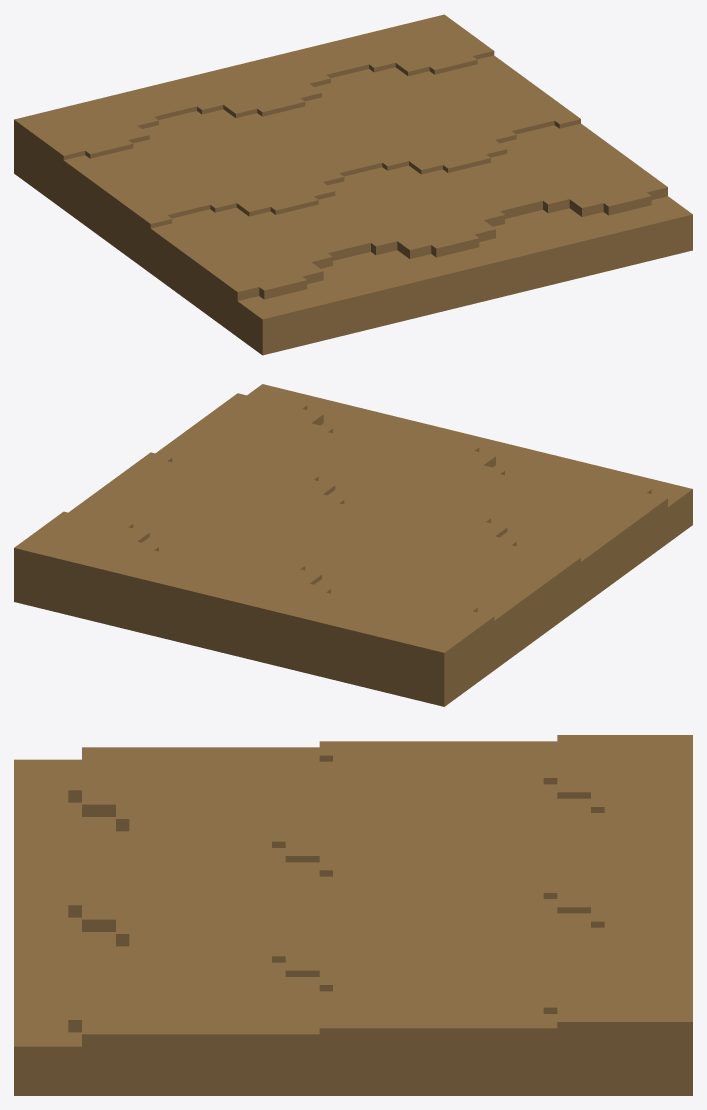
The model's file is Background_B_floor_02.FBX.
The picture shows the model from 3 angles, top to bottom: view 1: azimuth 30°, elevation 25°; view 2: azimuth 150°, elevation 25°; view 3: azimuth 270°, elevation 25°; orthographic projection. The views are drawn at different scales.
Visible parts, largest first — view 1: floor-0; view 2: floor-0; view 3: floor-0.
Boxes of the visible parts, x1=… form: floor-0: x1=14, y1=14, x2=692, y2=355; floor-0: x1=14, y1=384, x2=692, y2=706; floor-0: x1=14, y1=735, x2=692, y2=1095.
Bounding box in the file's own units: 10 × 1.2 × 10.
Materials: 1 (1 with a texture image).
